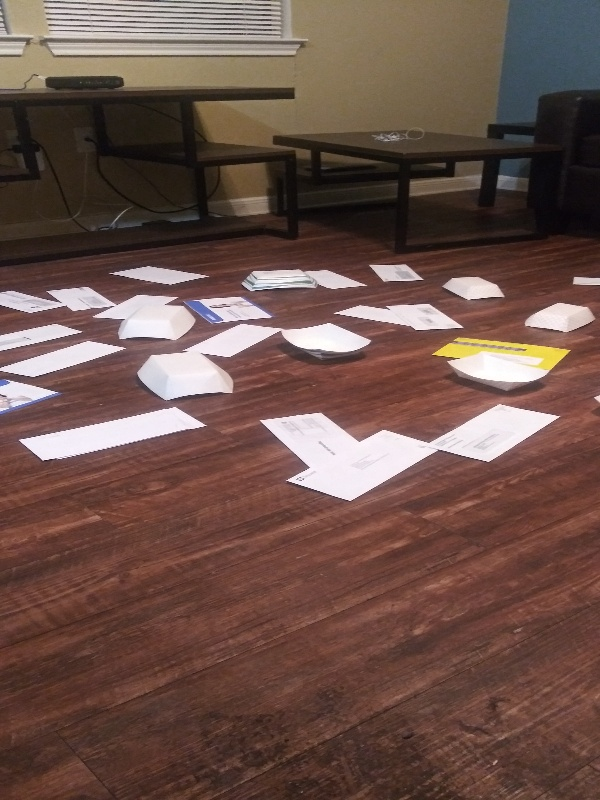plate: (133, 349, 237, 402), (444, 350, 554, 394), (274, 320, 376, 367), (112, 302, 200, 346), (521, 299, 598, 334), (236, 266, 321, 295), (438, 273, 507, 305)
